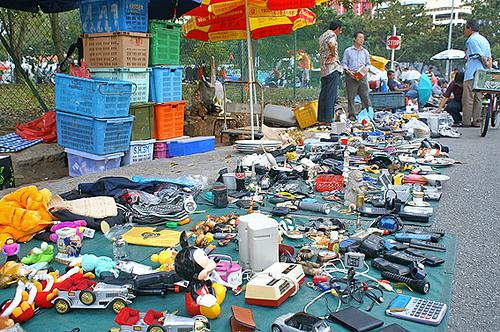car: (472, 63, 500, 143)
person: (461, 20, 495, 130), (343, 31, 373, 123), (319, 22, 343, 127), (436, 70, 466, 126), (388, 70, 412, 93)
